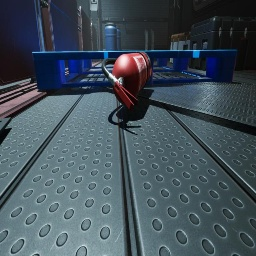FireExtinguisher ]: (102, 51, 152, 112)
